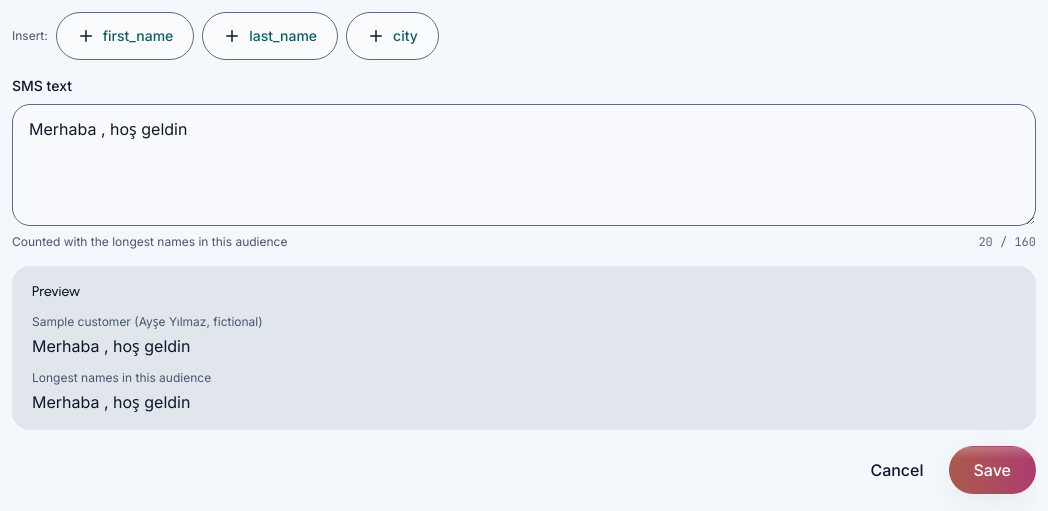
Test case: MessageEditor › inserts a variable at the caret and keeps typing there
What coordinates should you click on to do the following:
click the button with aria-label "Insert first_name"
I would click on:
 (125, 36)
Its box is [56, 12, 194, 60].
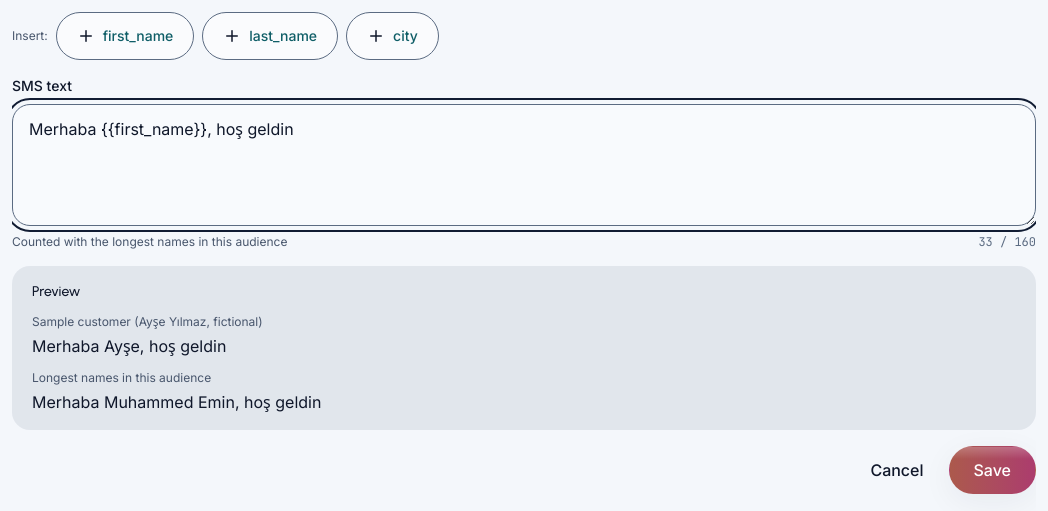
Expected: the text box labelled "SMS text" holds "Merhaba {{first_name}}, hoş geldin", [12, 104, 1036, 226]
